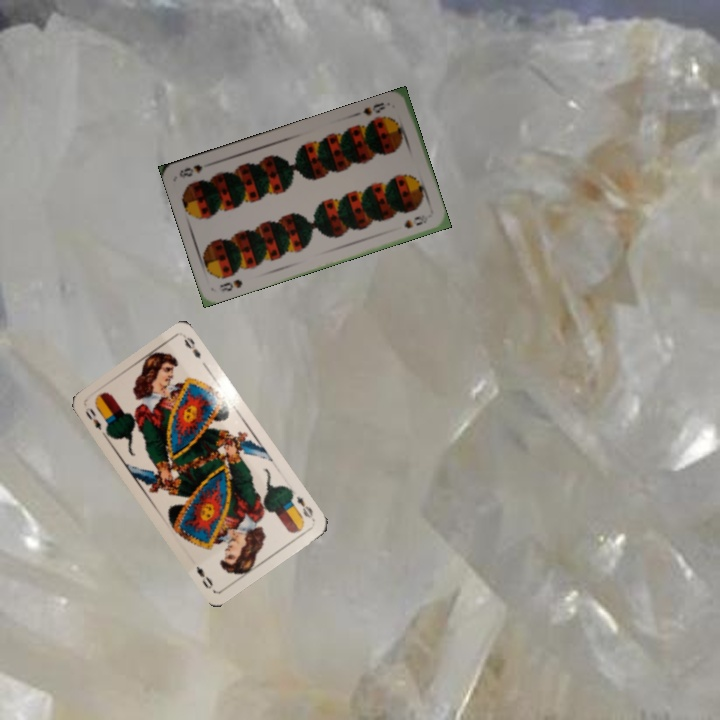EO: (292, 492, 317, 523), (81, 403, 104, 433)
S8: (359, 98, 388, 118), (216, 275, 245, 294)
